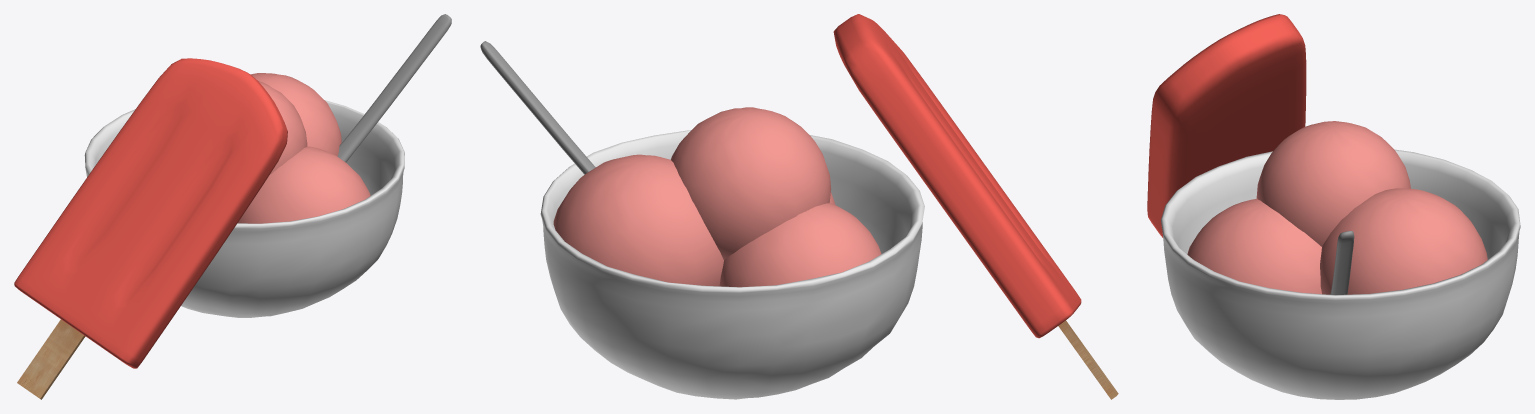
Rendered from Sorvete.glb.
3 renders of one model, left to right at view 1: azimuth 30°, elevation 25°; view 2: azimuth 150°, elevation 25°; view 3: azimuth 270°, elevation 25°, orthographic. The views are drawn at different scales.
Parts seen in each view (by area): view 1: Cube.002; view 2: Cube.002; view 3: Cube.002.
Boxes of the visible parts, <box> form: Cube.002: <box>14,14,451,399</box>; Cube.002: <box>480,14,1118,399</box>; Cube.002: <box>1147,14,1520,399</box>.
Size of the model in its own units: 4.72 by 2.68 by 2.83.
Materials: 5 (1 with a texture image).
